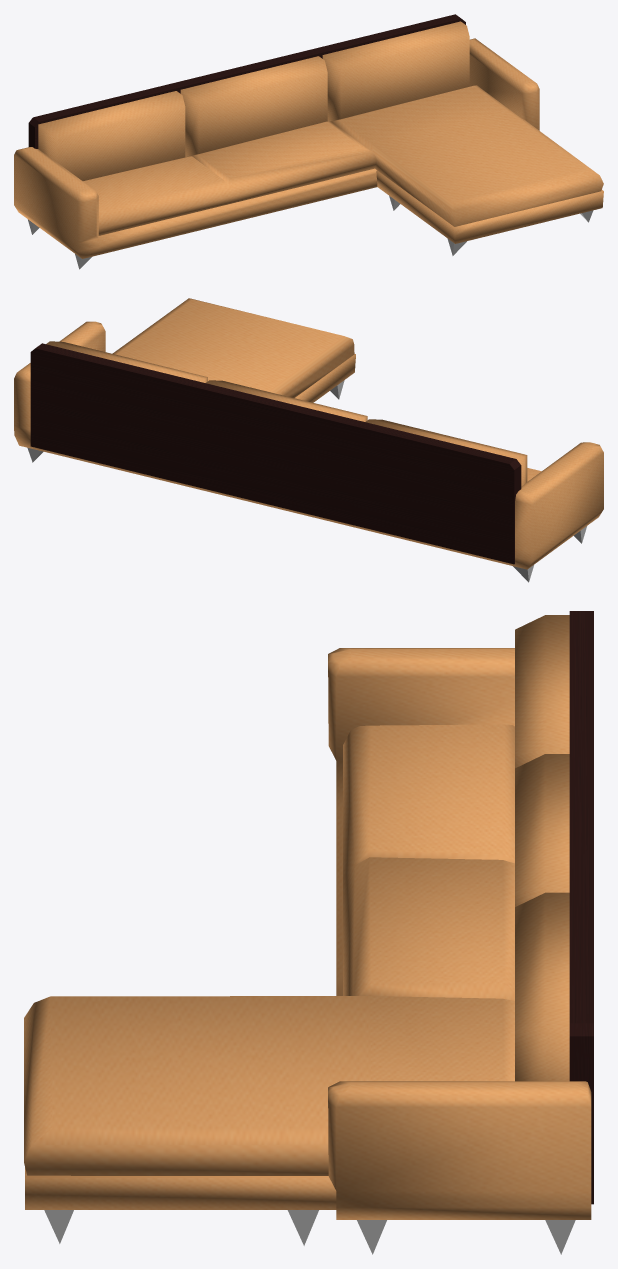
File: Chaise_Sofa_A_03.FBX
3 views of the same model, one above another, from view 1: azimuth 30°, elevation 25°; view 2: azimuth 150°, elevation 25°; view 3: azimuth 270°, elevation 25° (orthographic). The views are drawn at different scales.
Visible parts, largest first — view 1: Chaise_Sofa_A; view 2: Chaise_Sofa_A; view 3: Chaise_Sofa_A.
Part boxes in pixels (x1,y1,x2,y2): Chaise_Sofa_A: (14,14,603,269); Chaise_Sofa_A: (14,298,603,582); Chaise_Sofa_A: (24,611,593,1254).
Bounding box in the file's own units: 685 × 157 × 366.
